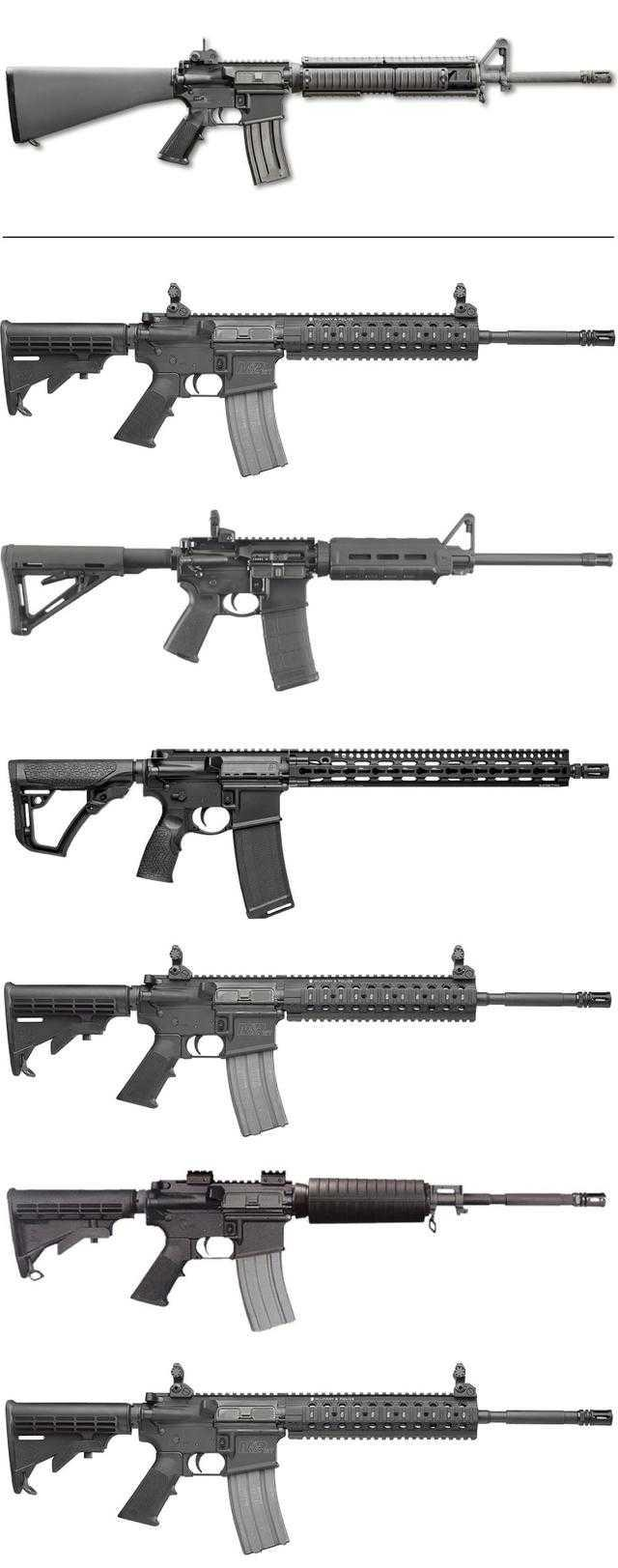heavyweapon: (0, 271, 618, 509), (0, 1348, 618, 1568), (0, 932, 618, 1142), (0, 718, 618, 927), (0, 29, 613, 229), (0, 1143, 618, 1333), (0, 519, 616, 681)
